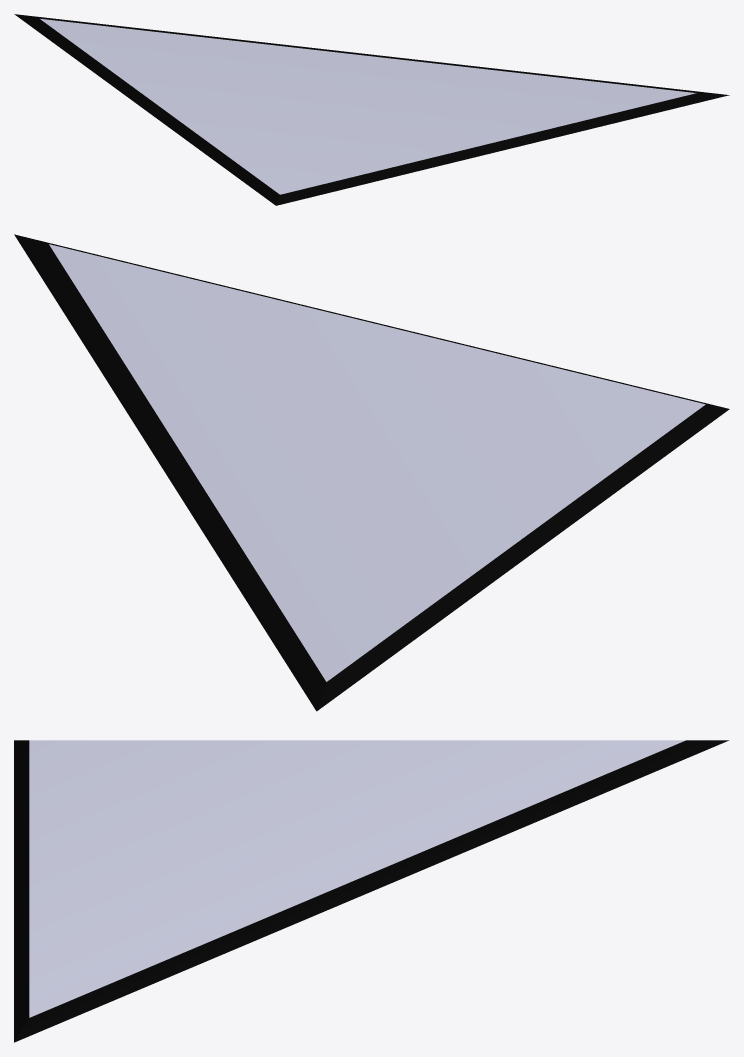
File: Floor_Triangle.fbx
3 views of the same model, one above another, from view 1: azimuth 30°, elevation 25°; view 2: azimuth 150°, elevation 25°; view 3: azimuth 270°, elevation 25° (orthographic). The views are drawn at different scales.
Visible parts, largest first — view 1: FloorTile_triangle_1x1_GEO; view 2: FloorTile_triangle_1x1_GEO; view 3: FloorTile_triangle_1x1_GEO.
Boxes of the visible parts, x1=… form: FloorTile_triangle_1x1_GEO: x1=14, y1=14, x2=729, y2=205; FloorTile_triangle_1x1_GEO: x1=14, y1=234, x2=729, y2=711; FloorTile_triangle_1x1_GEO: x1=14, y1=740, x2=728, y2=1042.
Size of the model in its own units: 260 by 2.56 by 260.
